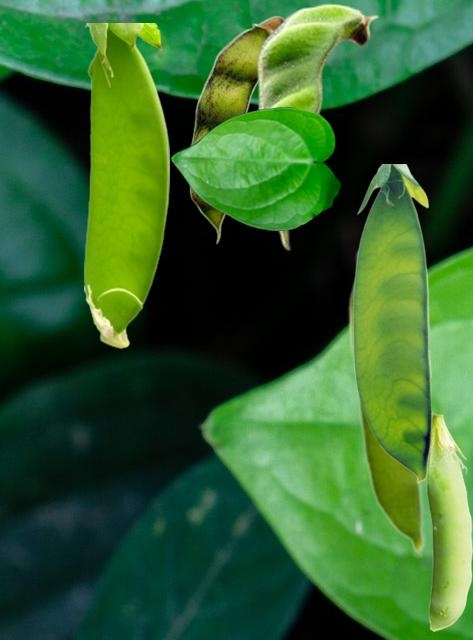pea: (253, 3, 378, 250), (84, 23, 168, 347), (352, 164, 430, 482), (347, 247, 426, 557), (189, 15, 283, 243), (425, 408, 471, 630)
